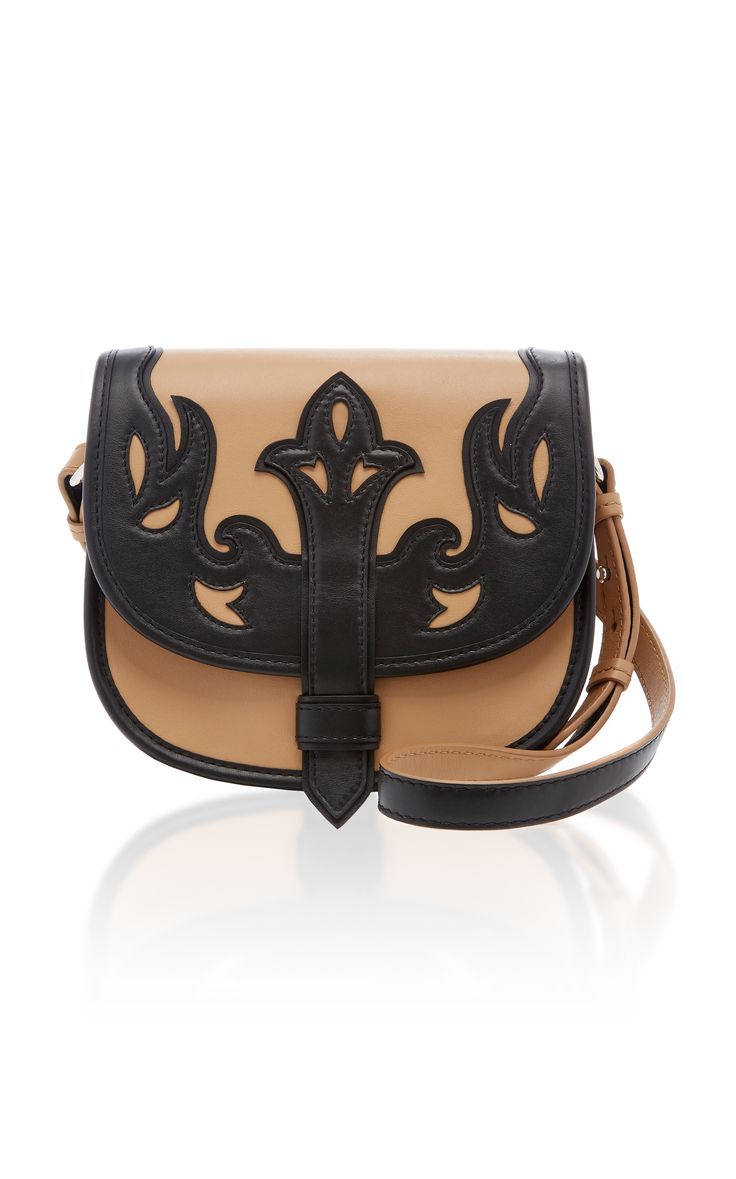cuero: (52, 351, 674, 829)
